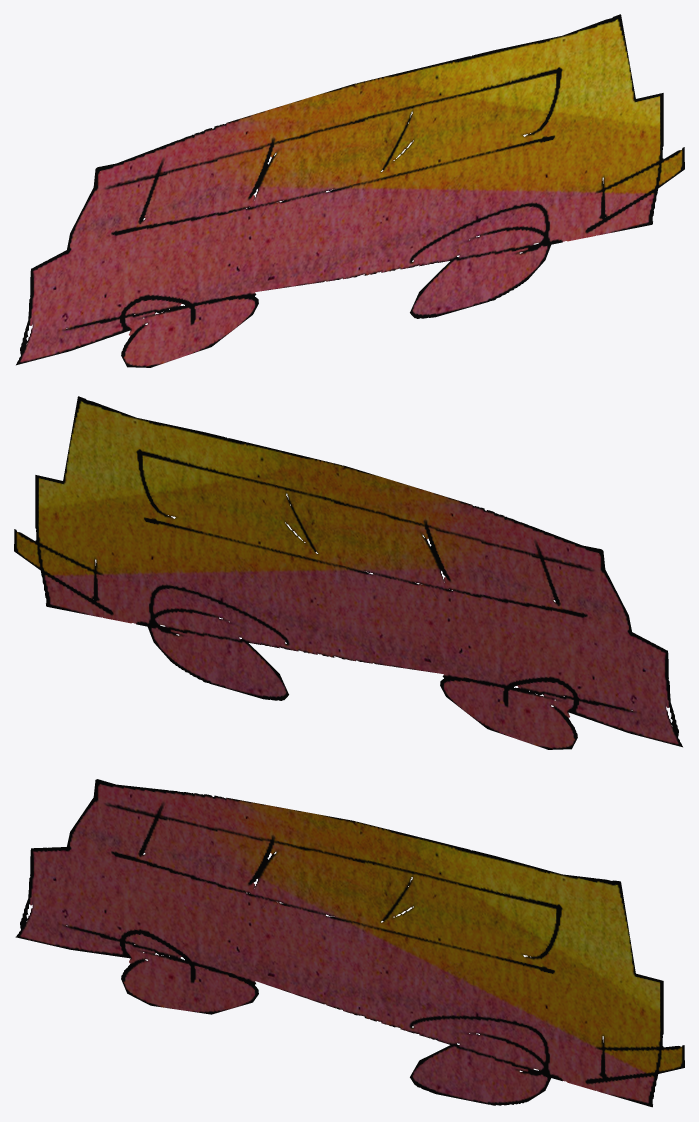
File: car_01.fbx
The picture shows the model from 3 angles, top to bottom: view 1: azimuth 30°, elevation 25°; view 2: azimuth 150°, elevation 25°; view 3: azimuth 330°, elevation 25°; orthographic projection.
Parts seen in each view (by area): view 1: 車_01; view 2: 車_01; view 3: 車_01.
Part boxes in pixels (left/top/right/bottom): 車_01: left=16, top=14, right=684, bottom=367; 車_01: left=14, top=396, right=682, bottom=749; 車_01: left=15, top=779, right=684, bottom=1107.
Bounding box in the file's own units: 395 × 145 × 1.73e-05.
1 material, 1 textured.
